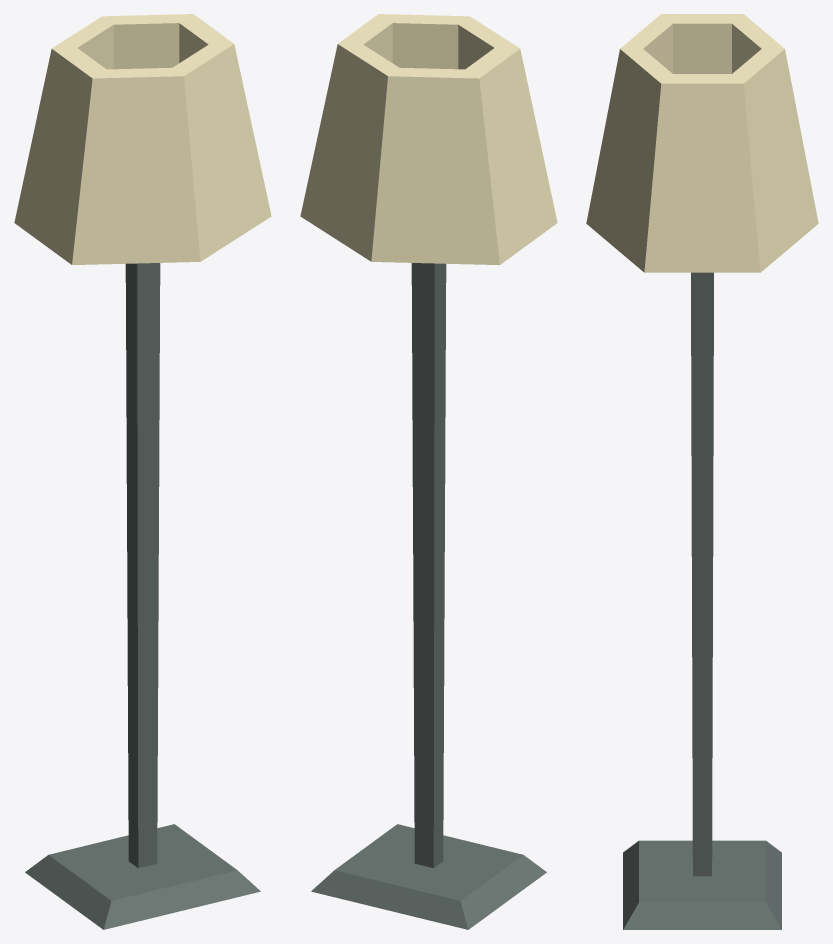
File: lamp.glb
3 views of the same model, side by side, from view 1: azimuth 30°, elevation 25°; view 2: azimuth 150°, elevation 25°; view 3: azimuth 270°, elevation 25° (orthographic).
Parts seen in each view (by area): view 1: lampRoundFloor(Clone); view 2: lampRoundFloor(Clone); view 3: lampRoundFloor(Clone).
Part boxes in pixels (bbox=[...]): lampRoundFloor(Clone): bbox=[14, 14, 271, 929]; lampRoundFloor(Clone): bbox=[300, 14, 557, 929]; lampRoundFloor(Clone): bbox=[586, 14, 818, 929].
Bounding box in the file's own units: 0.4 × 1.6 × 0.4.
